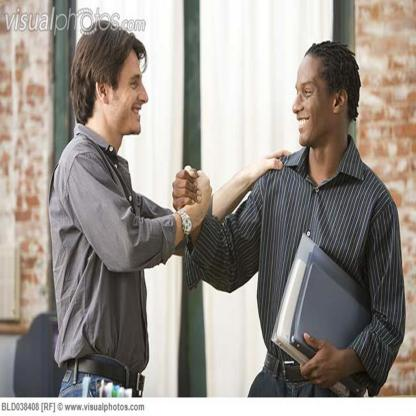face: (294, 56, 333, 148), (113, 50, 149, 135)
